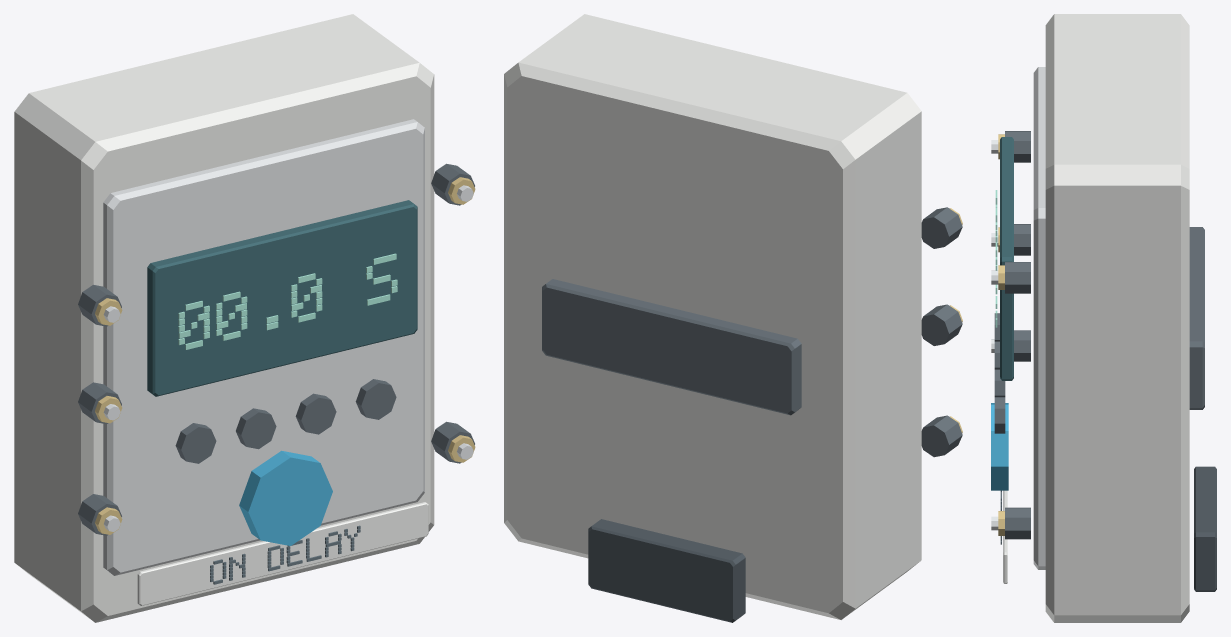
File: timer.glb
3 views of the same model, side by side, from view 1: azimuth 30°, elevation 25°; view 2: azimuth 150°, elevation 25°; view 3: azimuth 270°, elevation 25° (orthographic). The views are drawn at different scales.
Visible parts, largest first — view 1: timer-board; view 2: timer-board; view 3: timer-board.
Part boxes in pixels (x1=…): timer-board: x1=14, y1=14, x2=475, y2=622; timer-board: x1=504, y1=14, x2=962, y2=622; timer-board: x1=991, y1=14, x2=1216, y2=622.
Size of the model in its own units: 2.4 by 2.95 by 1.28.
